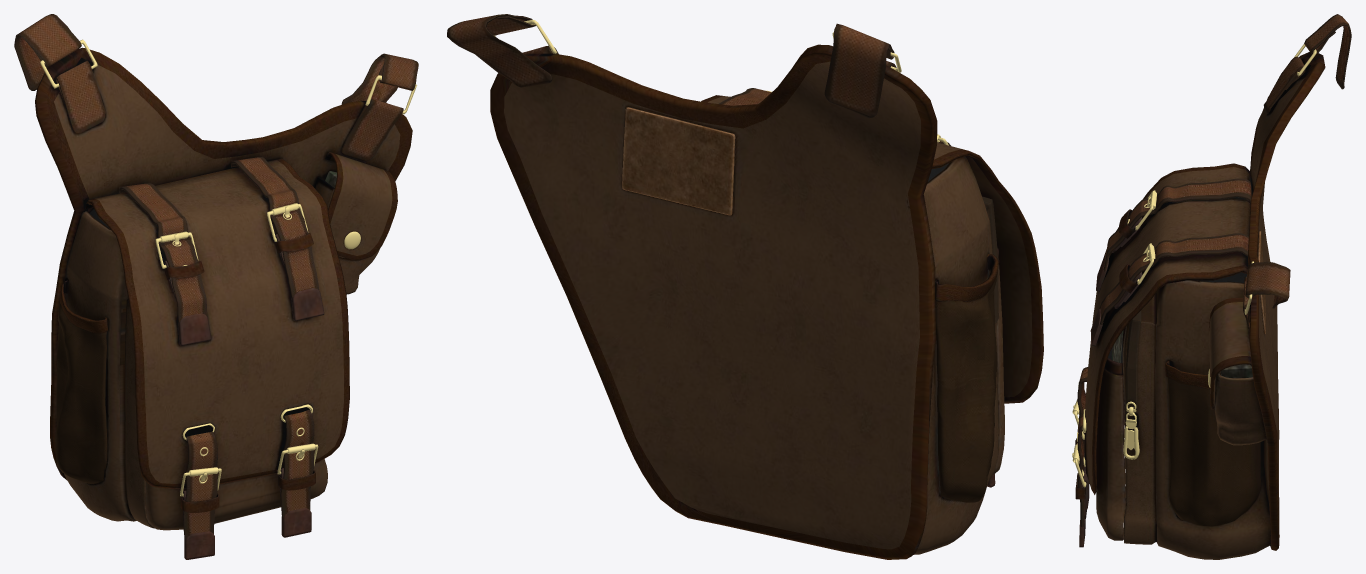
The model's file is gear_canvas_bag.gltf.
The picture shows the model from 3 angles, left to right: view 1: azimuth 30°, elevation 25°; view 2: azimuth 150°, elevation 25°; view 3: azimuth 270°, elevation 25°; orthographic projection. The views are drawn at different scales.
Parts seen in each view (by area): view 1: g (×20); view 2: g (×9); view 3: g (×17).
Boxes of the visible parts, box(x1,y1,x2,y2) form: g (×20): box(14, 14, 418, 559); g (×9): box(447, 14, 1043, 559); g (×17): box(1077, 14, 1351, 559).
Bounding box in the file's own units: 1.81 × 2 × 1.1.
11 materials, 11 textured.
